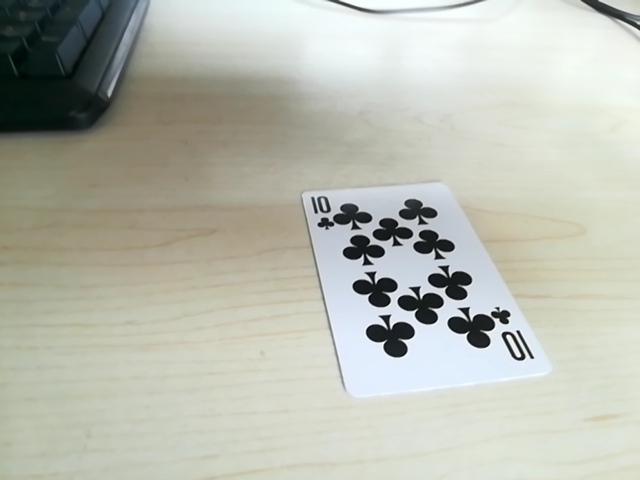mh 10: (305, 190, 452, 235), (491, 316, 536, 360)
